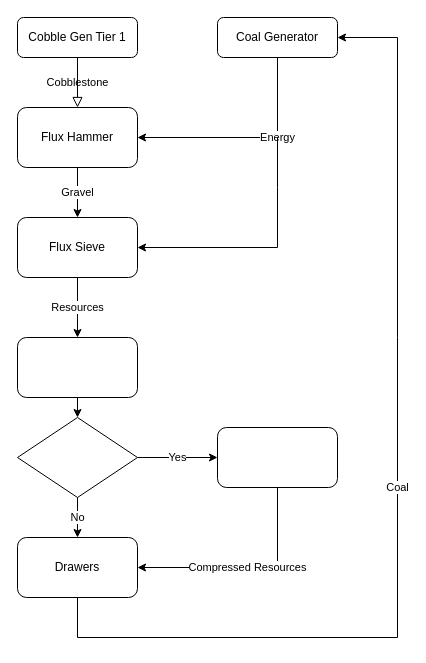
This 426x663 diagram has some shape labels left out. Each missing label, with the centre of its shape:
Flux Compactor: (277,457)
Is resource compressible: (77,457)
Storage Controller: (77,367)
